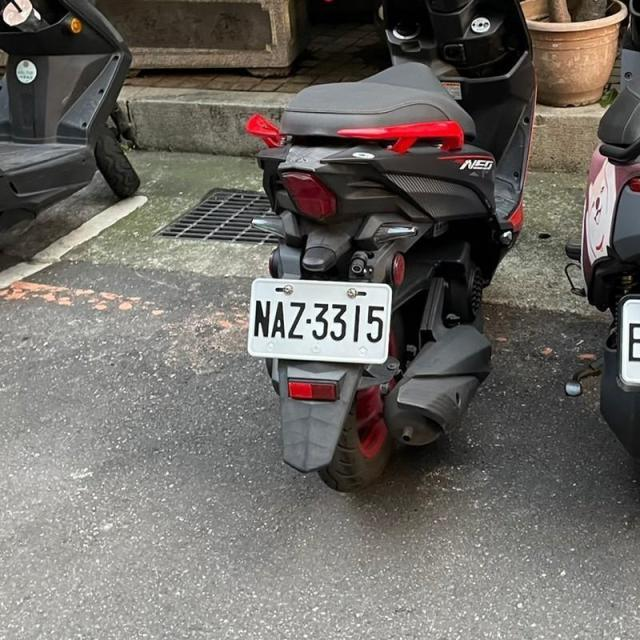W: (240, 270, 398, 370), (609, 286, 640, 399)
